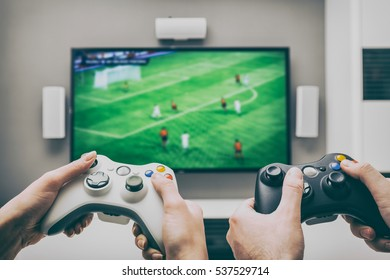gamingconsole: (45, 152, 179, 252), (255, 152, 387, 236)
